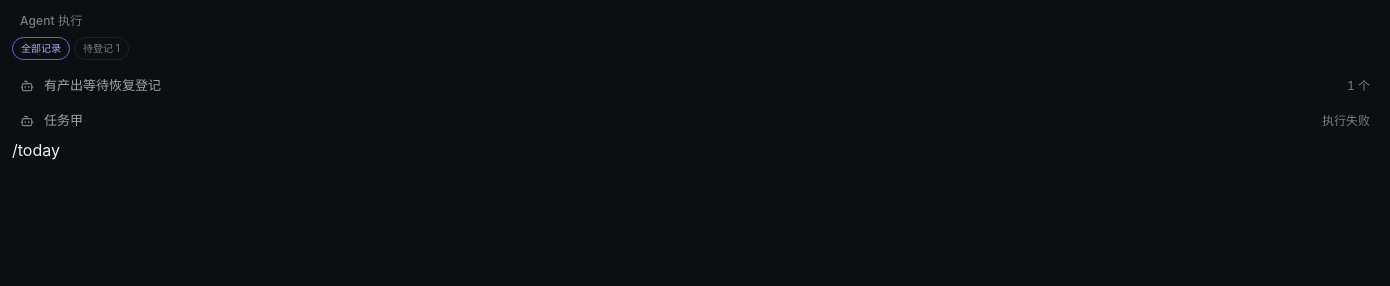
Test: AgentsTab › displays only the fixed explanation for AGENT_MODEL_FILTERED in exact Run detail
Click the text "任务甲": point(64, 120) [44,112,83,128]
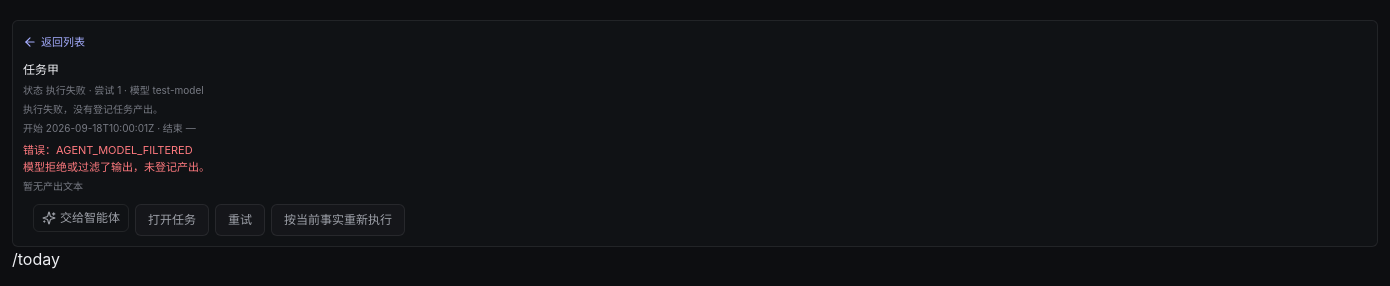
Now the text "模型拒绝或过滤了输出，未登记产出。" is shown, box [23,160,210,174]
